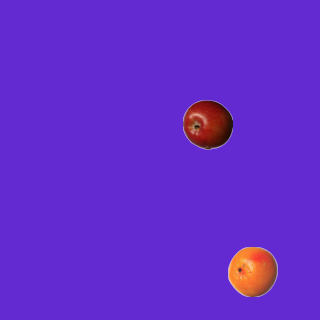Apple Braeburn: (182, 99, 232, 149)
Grapefruit Pink: (227, 246, 277, 296)
